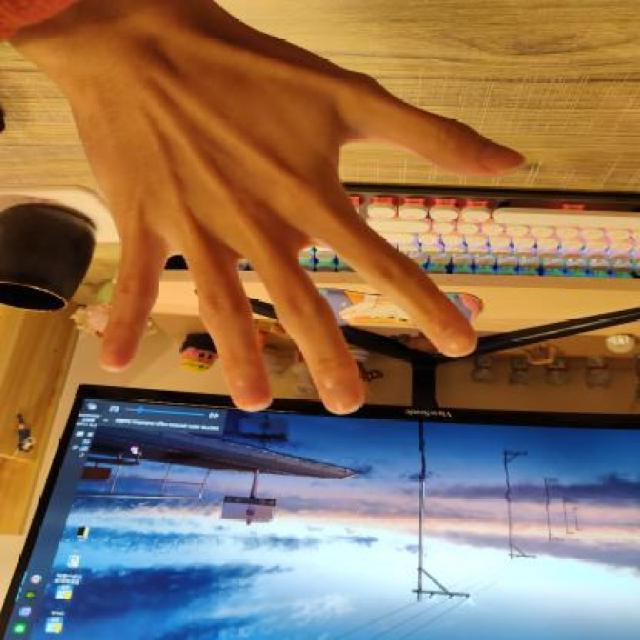bare_hand: (22, 0, 538, 429)
